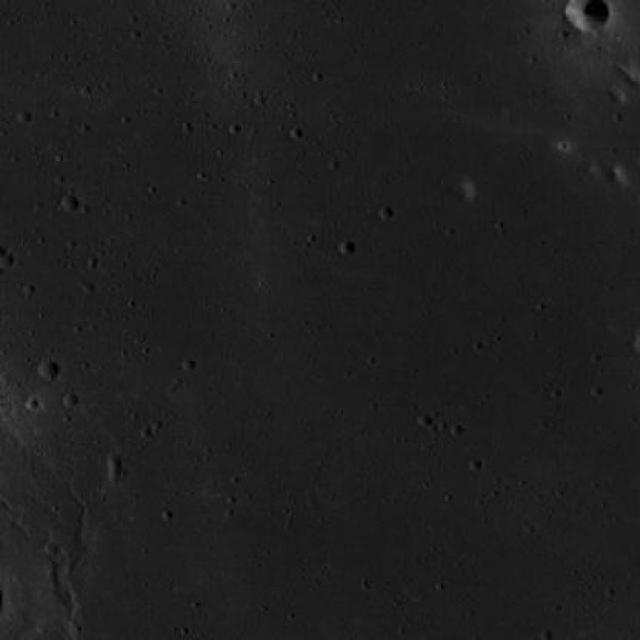crater: (566, 0, 608, 29), (37, 357, 60, 377), (60, 192, 80, 210), (105, 457, 124, 474), (0, 250, 14, 267)
